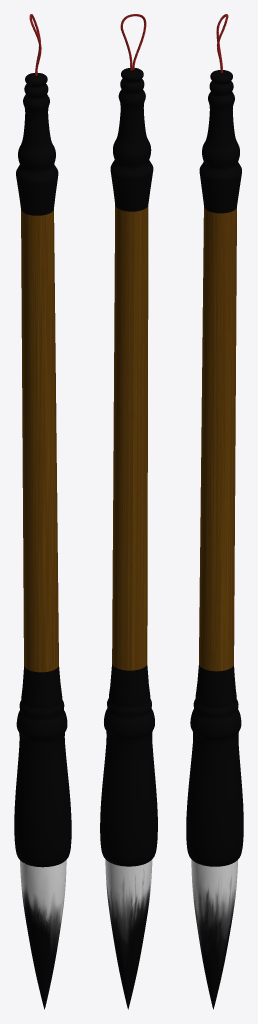
File: Chinese Calligraphy Brush.glb
The picture shows the model from 3 angles, left to right: view 1: azimuth 90°, elevation 25°; view 2: azimuth 210°, elevation 25°; view 3: azimuth 270°, elevation 25°; orthographic projection.
Parts seen in each view (by area): view 1: 笔杆.001, 笔冠.001, 笔头.001, 挂绳体; view 2: 笔杆.001, 笔冠.001, 笔头.001, 挂绳体; view 3: 笔杆.001, 笔冠.001, 笔头.001, 挂绳体.
Boxes of the visible parts, x1,y1,x2,y2 form: 笔杆.001: (21,209,58,672); 笔冠.001: (14,73,71,867); 笔头.001: (20,860,66,1009); 挂绳体: (29,14,41,75); 笔杆.001: (112,204,148,670); 笔冠.001: (100,68,157,866); 笔头.001: (105,859,152,1009); 挂绳体: (120,14,146,70); 笔杆.001: (199,207,236,671); 笔冠.001: (186,70,243,866); 笔头.001: (191,859,237,1009); 挂绳体: (216,14,228,72).
Bounding box in the file's own units: 0.0176 × 0.3368 × 0.0176.
Materials: 4 (2 with a texture image).
